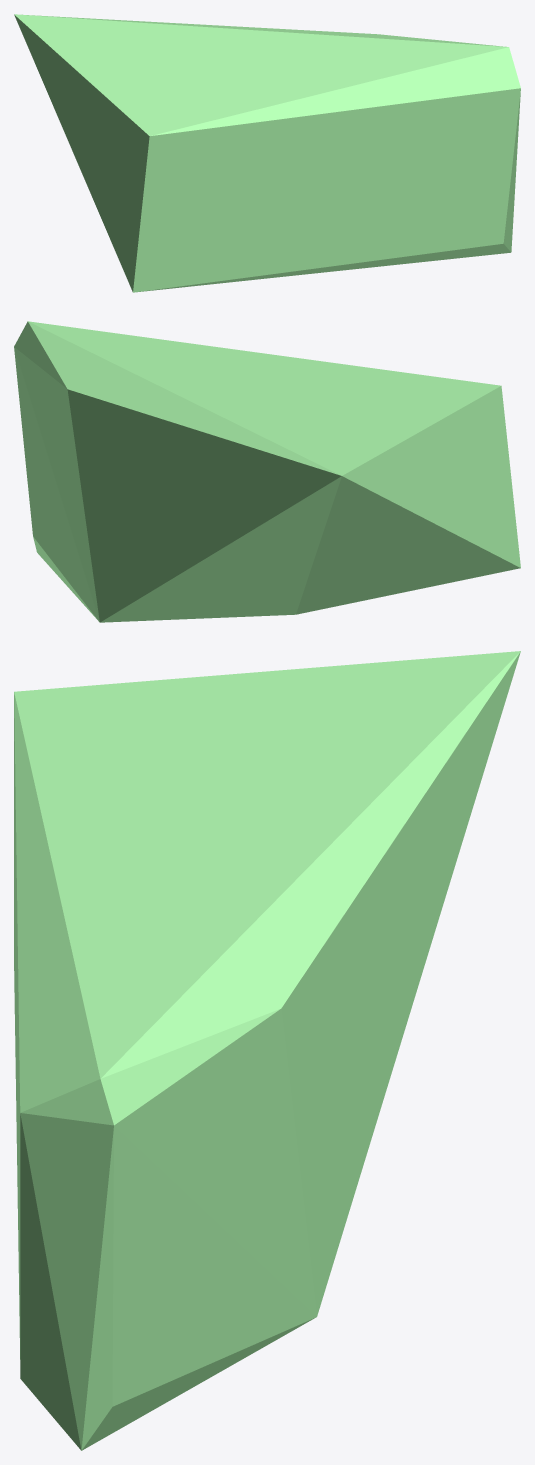
File: UMIRobot_UMIRobot_link_4_convex_coll_16.dae
The picture shows the model from 3 angles, top to bottom: view 1: azimuth 30°, elevation 25°; view 2: azimuth 150°, elevation 25°; view 3: azimuth 270°, elevation 25°; orthographic projection. The views are drawn at different scales.
Parts seen in each view (by area): view 1: node; view 2: node; view 3: node.
Boxes of the visible parts, x1,y1,x2,y2 form: node: (14,14,520,292); node: (14,321,520,622); node: (14,651,520,1450).
Bounding box in the file's own units: 0.0532 × 0.0305 × 0.0308.
